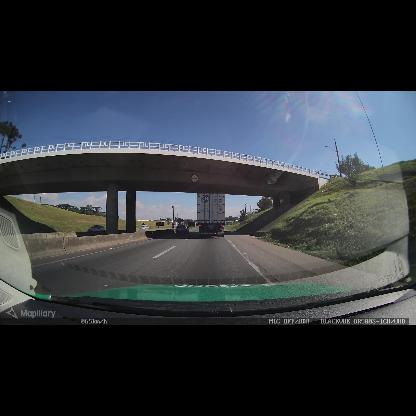R-15: (191, 174, 198, 182)
